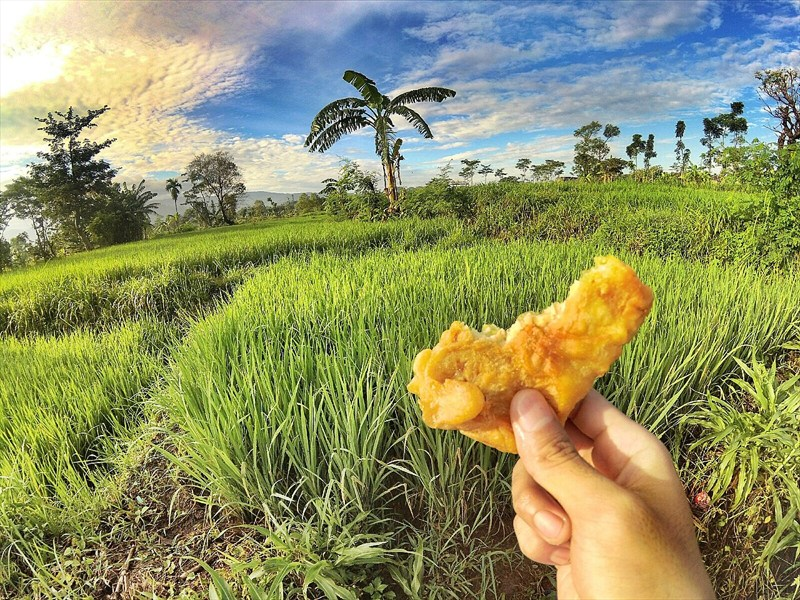Tempe Goreng: (67, 74, 748, 541)
